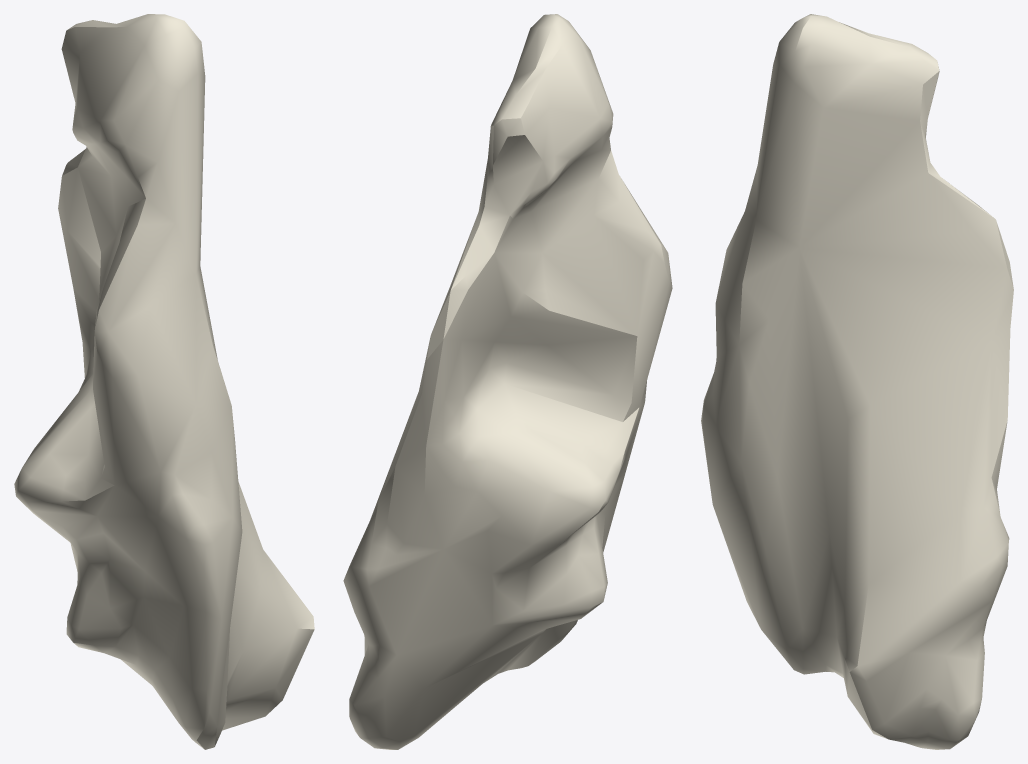
The model's file is fma53646_fj6376.glb.
The picture shows the model from 3 angles, left to right: view 1: azimuth 30°, elevation 25°; view 2: azimuth 150°, elevation 25°; view 3: azimuth 270°, elevation 25°; orthographic projection. The views are drawn at different scales.
Parts seen in each view (by area): view 1: FMA53646_FJ6376; view 2: FMA53646_FJ6376; view 3: FMA53646_FJ6376.
Part boxes in pixels (x1,y1,x2,y2): FMA53646_FJ6376: (14,14,314,749); FMA53646_FJ6376: (343,14,672,749); FMA53646_FJ6376: (701,14,1013,749).
Bounding box in the file's own units: 0.0107 × 0.0291 × 0.012.
